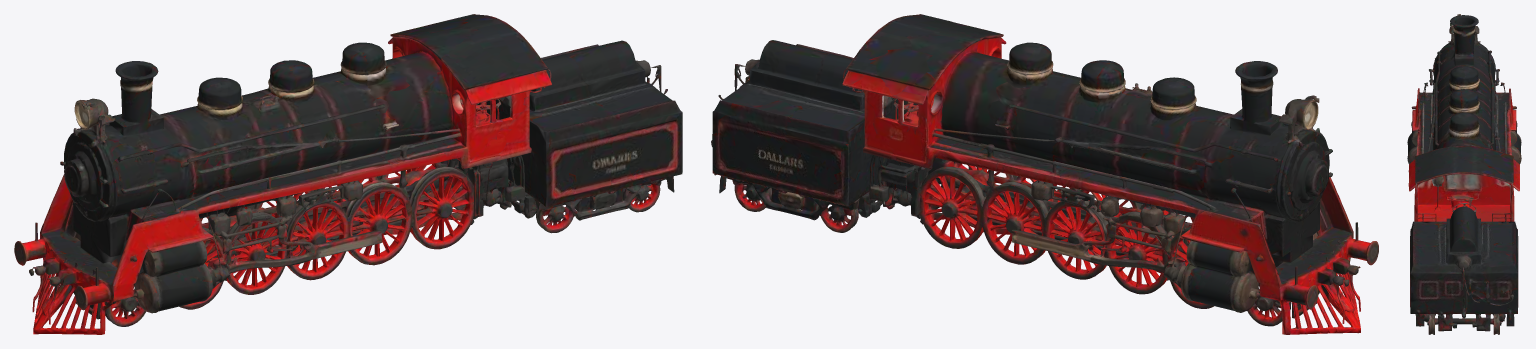
File: locomotive.glb
The picture shows the model from 3 angles, left to right: view 1: azimuth 30°, elevation 25°; view 2: azimuth 150°, elevation 25°; view 3: azimuth 270°, elevation 25°; orthographic projection. The views are drawn at different scales.
Bounding box in the file's own units: 1.89 × 0.6797 × 0.4431.
1 material, 1 textured.
